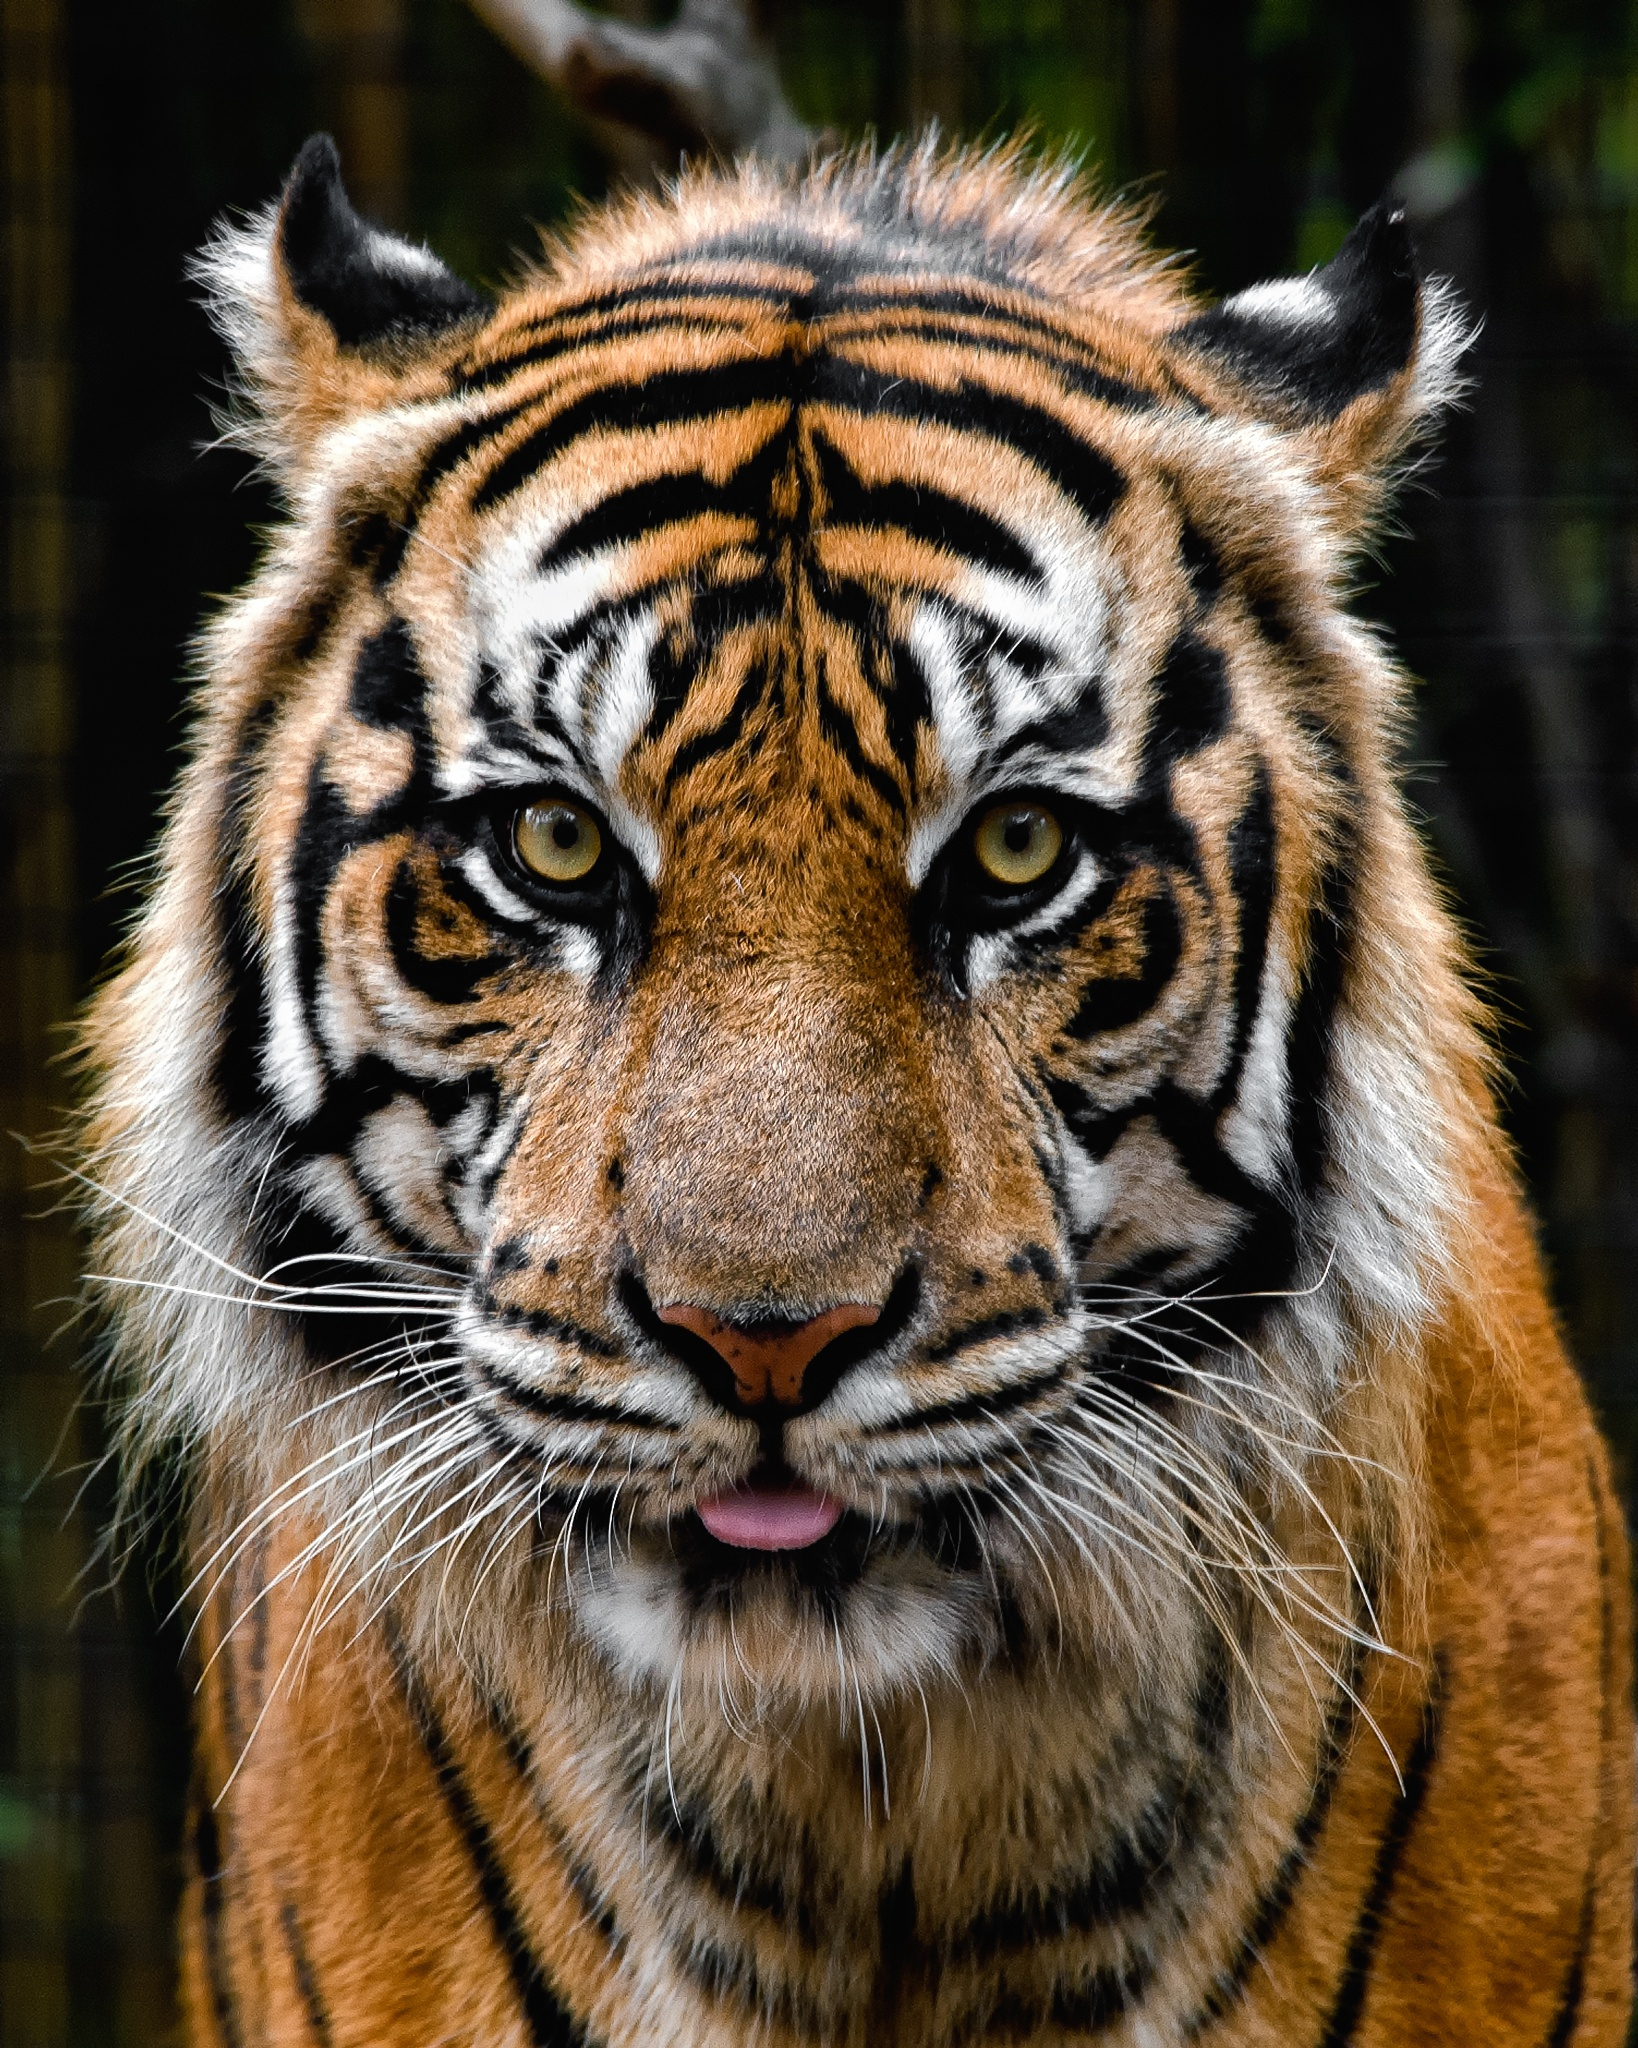tiger: (207, 130, 1513, 1772)
